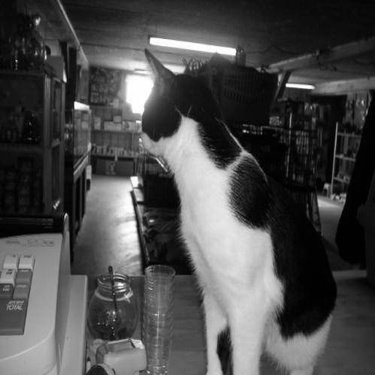cat: (141, 47, 337, 373)
